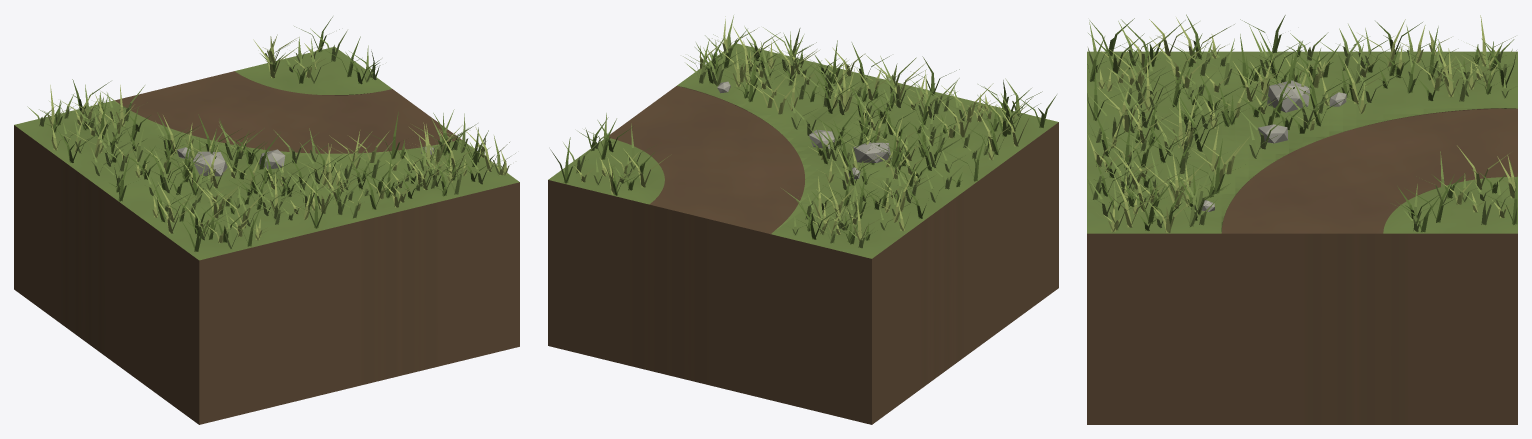
The picture shows the model from 3 angles, left to right: view 1: azimuth 30°, elevation 25°; view 2: azimuth 150°, elevation 25°; view 3: azimuth 270°, elevation 25°; orthographic projection. The views are drawn at different scales.
Visible parts, largest first — view 1: T018_Earth, T018_Surface, T018_Vegetation, T018_Detail; view 2: T018_Earth, T018_Surface, T018_Vegetation, T018_Detail; view 3: T018_Earth, T018_Surface, T018_Vegetation, T018_Detail, T018_Detail.001.
Boxes of the visible parts, x1,y1,x2,y2 form: T018_Earth: [14, 77, 519, 424]; T018_Surface: [14, 47, 519, 260]; T018_Vegetation: [27, 17, 515, 251]; T018_Detail: [193, 151, 227, 176]; T018_Earth: [548, 88, 1058, 424]; T018_Surface: [548, 43, 1058, 258]; T018_Vegetation: [550, 15, 1056, 248]; T018_Detail: [853, 142, 891, 162]; T018_Earth: [1087, 108, 1517, 424]; T018_Surface: [1087, 51, 1517, 233]; T018_Vegetation: [1087, 14, 1517, 232]; T018_Detail: [1267, 80, 1310, 112]; T018_Detail.001: [1258, 124, 1288, 143].
Size of the model in its own units: 2 by 1.19 by 2.
5 materials, 5 textured.
